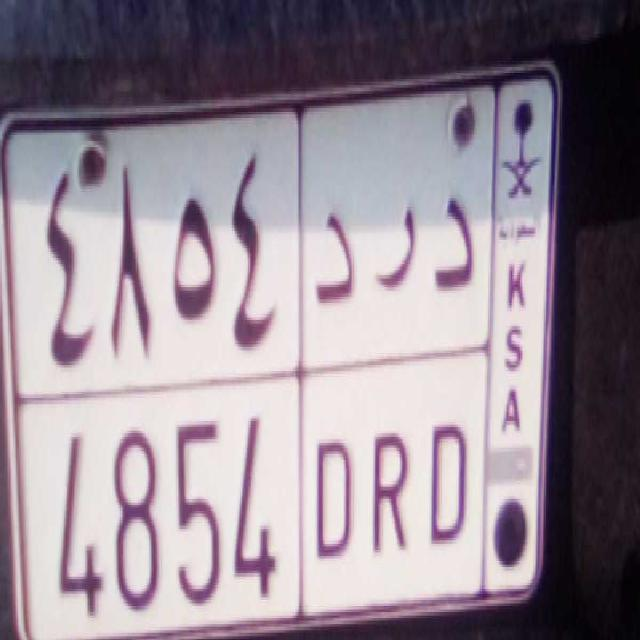license_plate: (20, 373, 482, 639)
